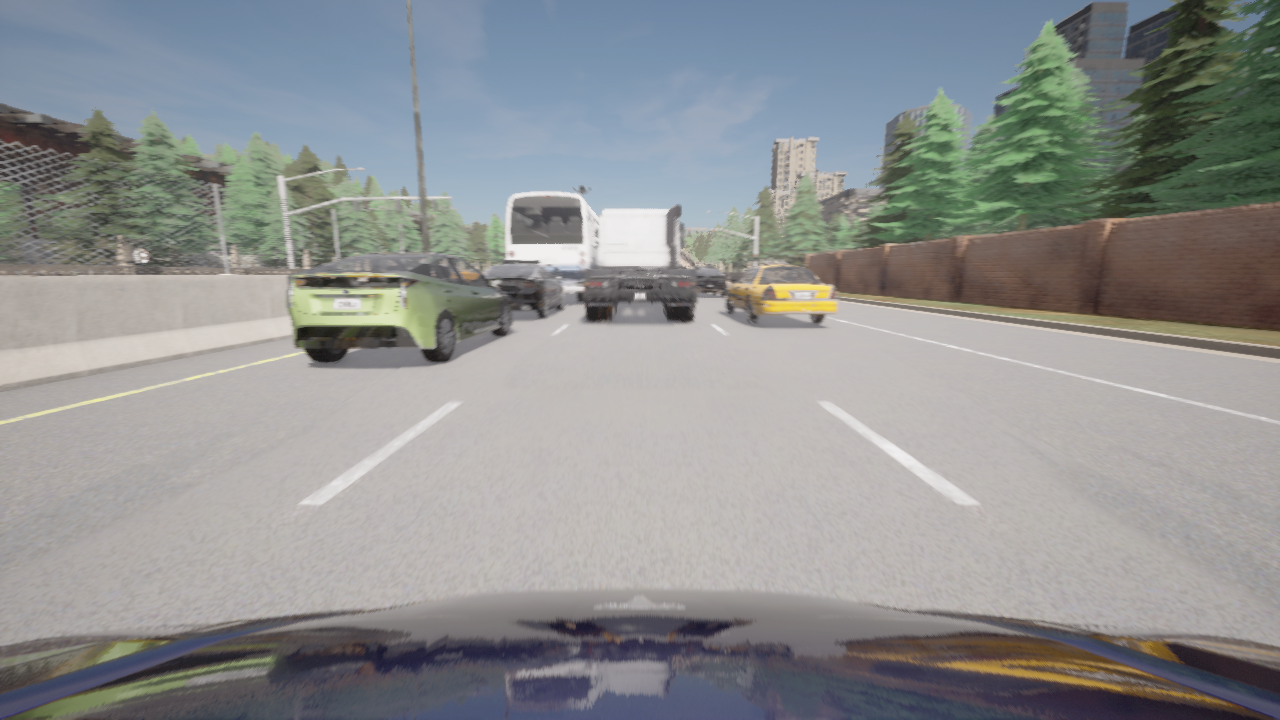cyclist: (0, 588, 1279, 719), (287, 253, 511, 362), (584, 205, 696, 320), (506, 192, 600, 300), (726, 259, 837, 323), (484, 259, 564, 317), (694, 266, 726, 296)
pedestrian: (250, 262, 257, 267)
